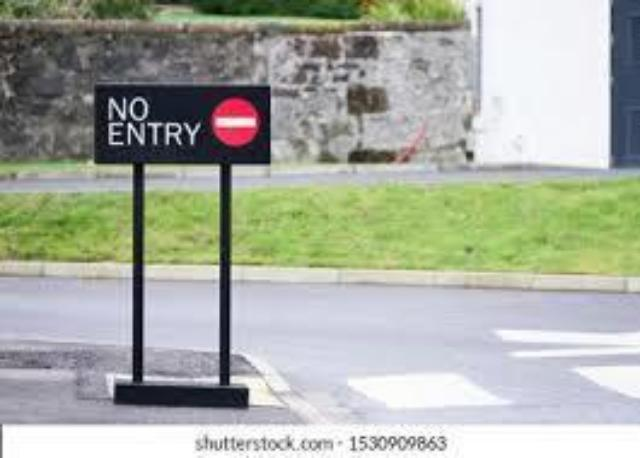B2: (210, 97, 260, 146)
